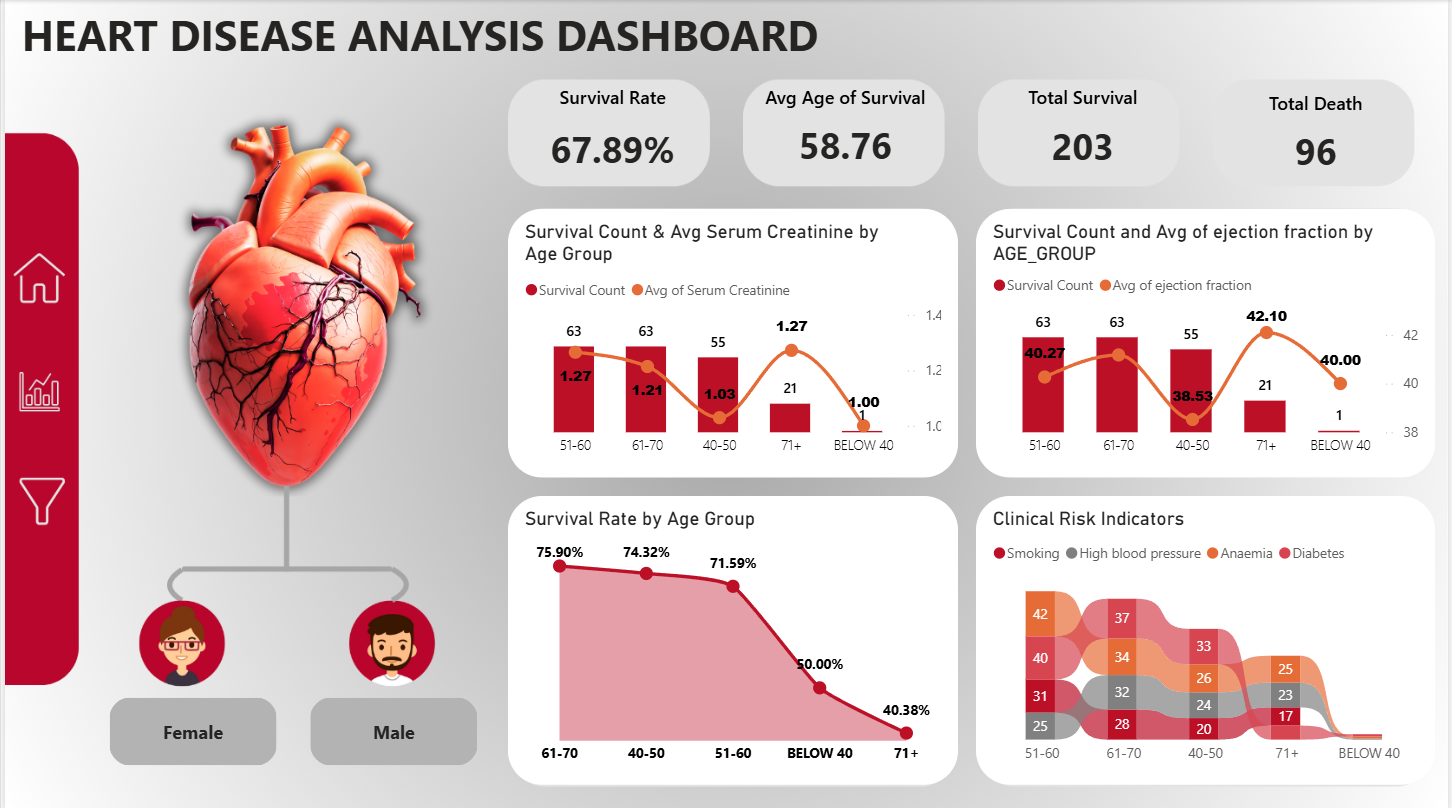

This screenshot's page, from the dashboard's own definition file:
{"tool":"powerbi","page":{"name":"Page 1","canvas":[1280,720],"ordinal":0},"visuals":[{"type":"textbox","box":[10,0,727,62],"z":0},{"type":"card","title":"Survival Rate","fields":{"Values":["heart_Disease_clinical_records_.Survival_Rate"]},"box":[453.5,75.6,171.3,97.8],"z":1000},{"type":"card","title":"Avg Age of Survival","fields":{"Values":["heart_Disease_clinical_records_.Average_Age_Survival"]},"box":[658.1,75.6,174.4,91.7],"z":2000},{"type":"card","title":"Total Survival","fields":{"Values":["heart_Disease_clinical_records_.Total_Surviour"]},"box":[867.8,75.6,175.4,92.7],"z":3000},{"type":"card","title":"Total Death","fields":{"Values":["heart_Disease_clinical_records_.Total_Death"]},"box":[1085,81,154,92],"z":4000},{"type":"lineClusteredColumnComboChart","title":"Survival Count & Avg Serum Creatinine by Age Group","fields":{"Category":["heart_Disease_clinical_records_.AGE_GROUP"],"Y":["CountNonNull(heart_Disease_clinical_records_.DEATH_EVENT)"],"Y2":["Avg(heart_Disease_clinical_records_.serum_creatinine)"]},"box":[446,185,399,238],"z":5000},{"type":"lineClusteredColumnComboChart","fields":{"Category":["heart_Disease_clinical_records_.AGE_GROUP"],"Y":["CountNonNull(heart_Disease_clinical_records_.DEATH_EVENT)"],"Y2":["Avg(heart_Disease_clinical_records_.ejection_fraction)"]},"box":[861,185,407,238],"z":6000},{"type":"lineChart","title":"Survival Rate by Age Group","fields":{"Category":["heart_Disease_clinical_records_.AGE_GROUP"],"Y":["heart_Disease_clinical_records_.Survival_Rate"]},"box":[446,440,399,256],"z":7000},{"type":"ribbonChart","title":"Clinical Risk Indicators","fields":{"Category":["heart_Disease_clinical_records_.AGE_GROUP"],"Y":["Sum(heart_Disease_clinical_records_.smoking)","Sum(heart_Disease_clinical_records_.high_blood_pressure)","Sum(heart_Disease_clinical_records_.anaemia)","Sum(heart_Disease_clinical_records_.diabetes)"]},"box":[861,440,407,256],"z":8000},{"type":"advancedSlicerVisual","fields":{"Values":["heart_Disease_clinical_records_.Gender"]},"box":[88,614,337,70],"z":9000}]}

Visuals, with their boxes in screenshot pixels (x1, y1, x2, y2), scaled from the page's 1280x720 canvas onto the 1452x808 screenshot:
textbox: [11,0,836,70]
"Survival Rate" card: [514,85,709,195]
"Avg Age of Survival" card: [747,85,944,188]
"Total Survival" card: [984,85,1183,189]
"Total Death" card: [1231,91,1405,194]
"Survival Count & Avg Serum Creatinine by Age Group" lineClusteredColumnComboChart: [506,208,959,475]
lineClusteredColumnComboChart - heart_Disease_clinical_records_.AGE_GROUP x CountNonNull(heart_Disease_clinical_records_.DEATH_EVENT): [977,208,1438,475]
"Survival Rate by Age Group" lineChart: [506,494,959,781]
"Clinical Risk Indicators" ribbonChart: [977,494,1438,781]
advancedSlicerVisual - heart_Disease_clinical_records_.Gender: [100,689,482,768]
